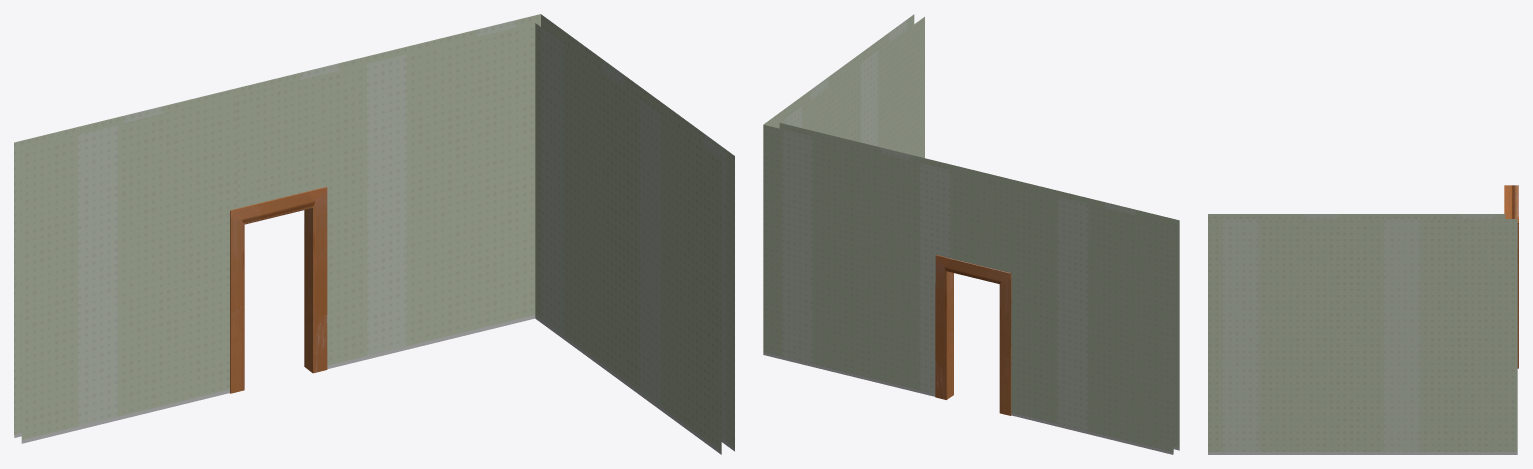
3 renders of one model, left to right at view 1: azimuth 30°, elevation 25°; view 2: azimuth 150°, elevation 25°; view 3: azimuth 270°, elevation 25°, orthographic. The views are drawn at different scales.
Parts seen in each view (by area): view 1: Mesh (63); view 2: Mesh (63); view 3: Mesh (63).
Boxes of the visible parts, left/top/right/bottom form: Mesh (63): left=14, top=14, right=734, bottom=454; Mesh (63): left=763, top=14, right=1179, bottom=454; Mesh (63): left=1208, top=185, right=1518, bottom=454.
Bounding box in the file's own units: 649 × 349 × 416.
